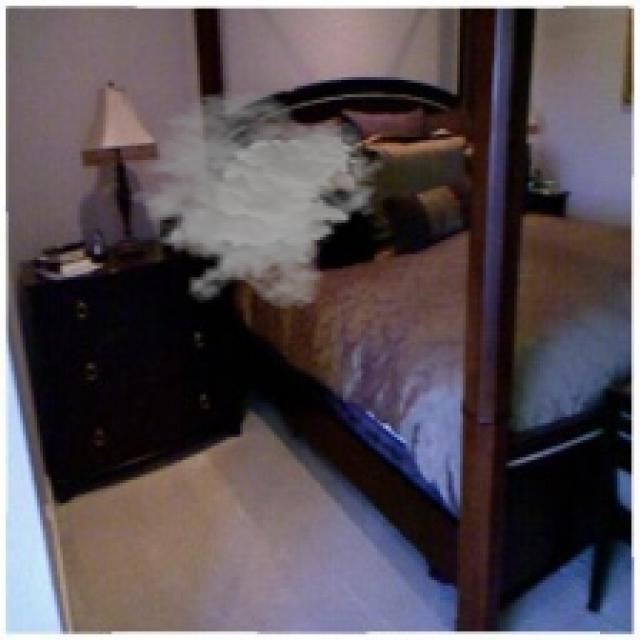Smoke: (117, 88, 389, 312)
